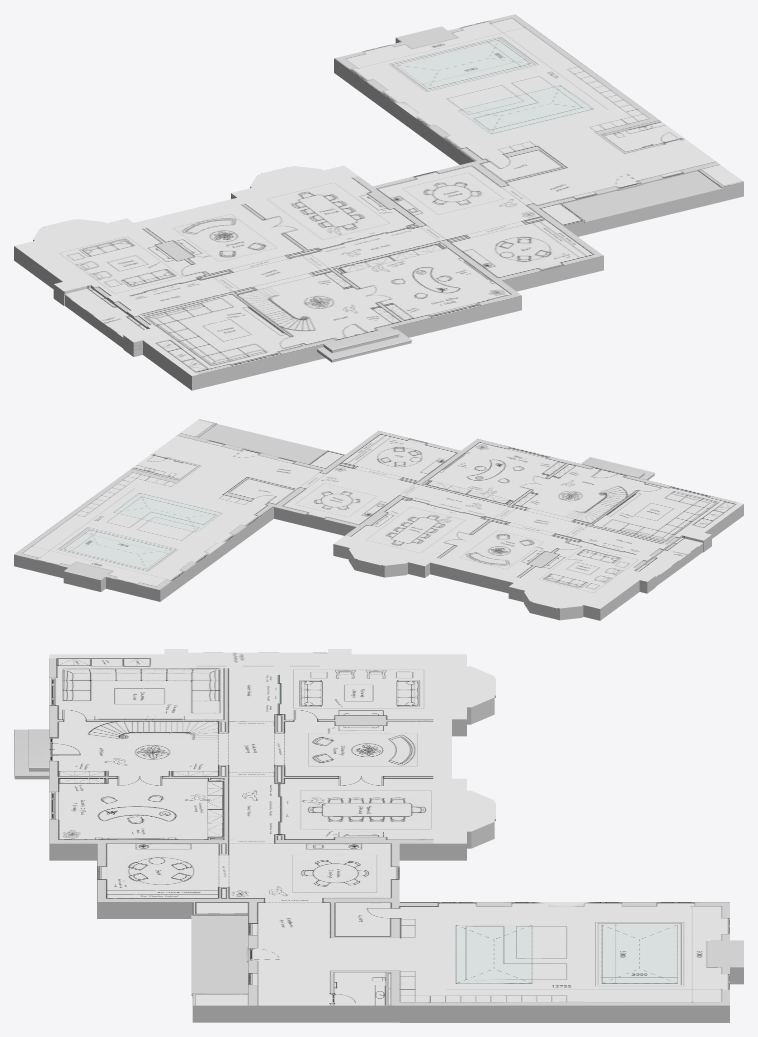
File: RB05__Storey__GroundFloor__ProposedFloors__MeshModel__.glb
3 renders of one model, top to bottom at view 1: azimuth 30°, elevation 25°; view 2: azimuth 150°, elevation 25°; view 3: azimuth 270°, elevation 25°, orthographic. The views are drawn at different scales.
Visible parts, largest first — view 1: 22__ProposedBuilding__Floors::MAT000E__RB05__GroundFloorPlan, 22__ProposedBuilding__Floors::Default, 22__ProposedBuilding__Floors::MAT000E__RB05__GroundFloor__Sc; view 2: 22__ProposedBuilding__Floors::MAT000E__RB05__GroundFloorPlan, 22__ProposedBuilding__Floors::Default, 22__ProposedBuilding__Floors::MAT000E__RB05__GroundFloor__Sc; view 3: 22__ProposedBuilding__Floors::MAT000E__RB05__GroundFloorPlan, 22__ProposedBuilding__Floors::Default, 22__ProposedBuilding__Floors::MAT000E__RB05__GroundFloor__Sc.
Part boxes in pixels (left/top/right/bottom): 22__ProposedBuilding__Floors::MAT000E__RB05__GroundFloorPlan: left=14, top=14, right=743, bottom=375; 22__ProposedBuilding__Floors::Default: left=14, top=38, right=743, bottom=390; 22__ProposedBuilding__Floors::MAT000E__RB05__GroundFloor__Sc: left=64, top=285, right=146, bottom=337; 22__ProposedBuilding__Floors::MAT000E__RB05__GroundFloorPlan: left=14, top=419, right=743, bottom=608; 22__ProposedBuilding__Floors::Default: left=14, top=424, right=743, bottom=620; 22__ProposedBuilding__Floors::MAT000E__RB05__GroundFloor__Sc: left=636, top=535, right=703, bottom=577; 22__ProposedBuilding__Floors::MAT000E__RB05__GroundFloorPlan: left=49, top=649, right=743, bottom=1005; 22__ProposedBuilding__Floors::Default: left=14, top=665, right=743, bottom=1022; 22__ProposedBuilding__Floors::MAT000E__RB05__GroundFloor__Sc: left=188, top=652, right=327, bottom=665.
Bounding box in the file's own units: 33.53 × 0.77 × 29.01.
4 materials, 3 textured.
